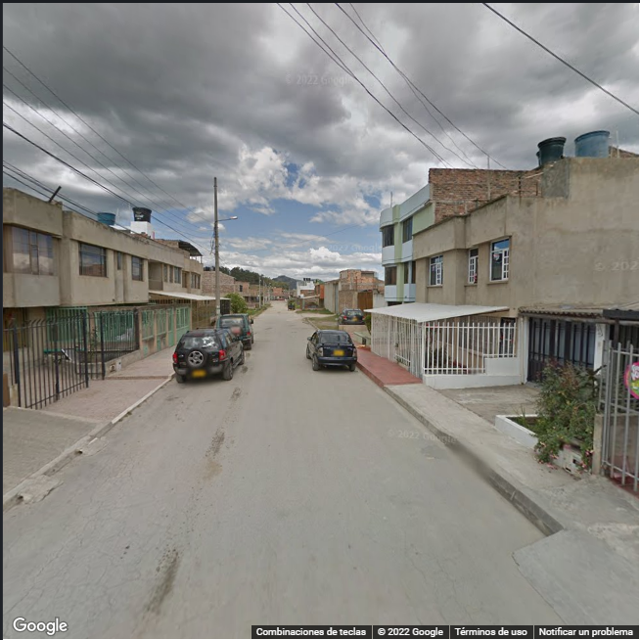D00: (396, 519, 452, 628), (6, 540, 62, 615), (457, 593, 480, 622)
